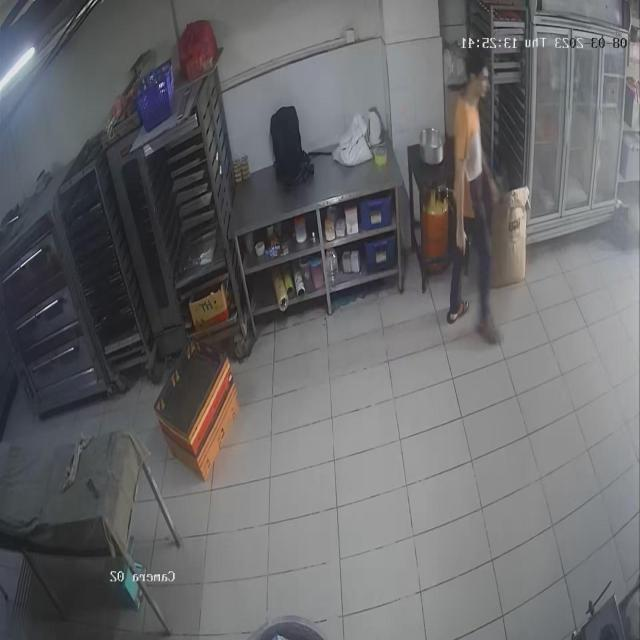Gun: (453, 227, 485, 281)
